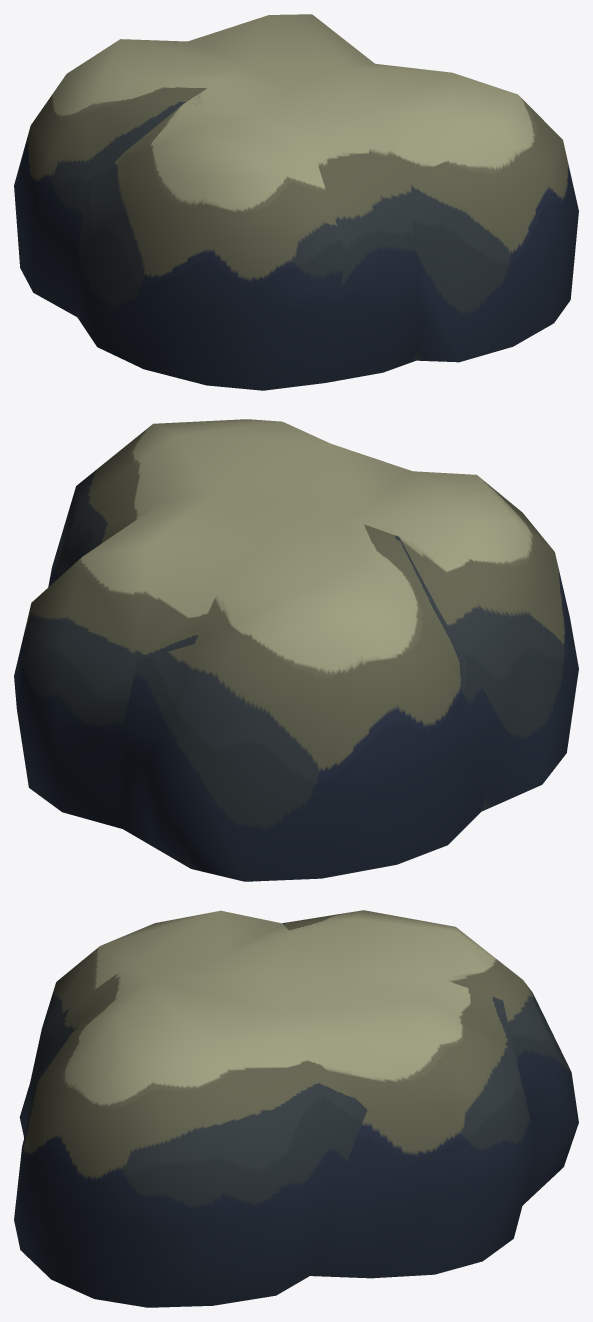
File: Grooved Brain Coral 2_preview_3DS_simplified.glb
3 renders of one model, top to bottom at view 1: azimuth 30°, elevation 25°; view 2: azimuth 150°, elevation 25°; view 3: azimuth 270°, elevation 25°, orthographic. The views are drawn at different scales.
Visible parts, largest first — view 1: Marine Park Empire model; view 2: Marine Park Empire model; view 3: Marine Park Empire model.
Part boxes in pixels (box(x1,y1,x2,y2)): Marine Park Empire model: box(14, 14, 578, 390); Marine Park Empire model: box(14, 419, 578, 881); Marine Park Empire model: box(14, 910, 578, 1307).
Bounding box in the file's own units: 69.72 × 32.7 × 72.8.
1 material, 1 textured.
